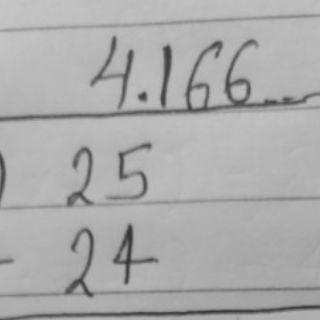.: (137, 89, 150, 103)
1: (157, 40, 174, 109)
2: (64, 224, 96, 298), (65, 141, 98, 206)
4: (86, 33, 134, 109), (111, 222, 160, 285)
5: (106, 140, 156, 202)
6: (183, 37, 226, 111), (222, 35, 264, 104)
